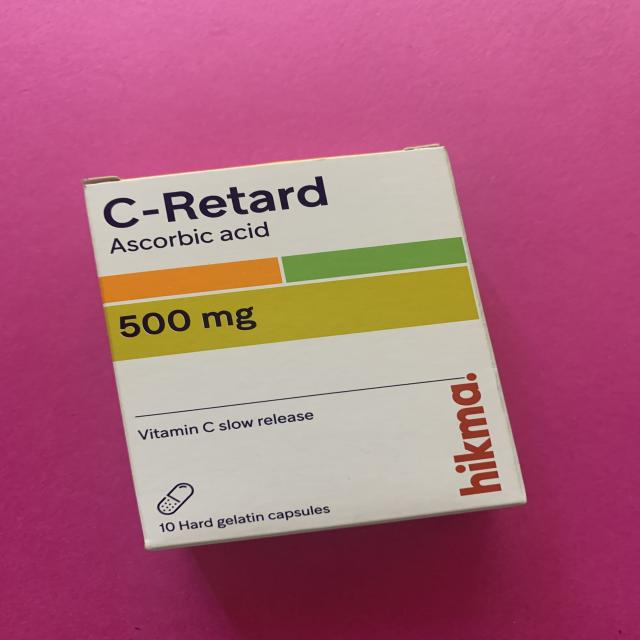C-Retard: (65, 141, 546, 565)
